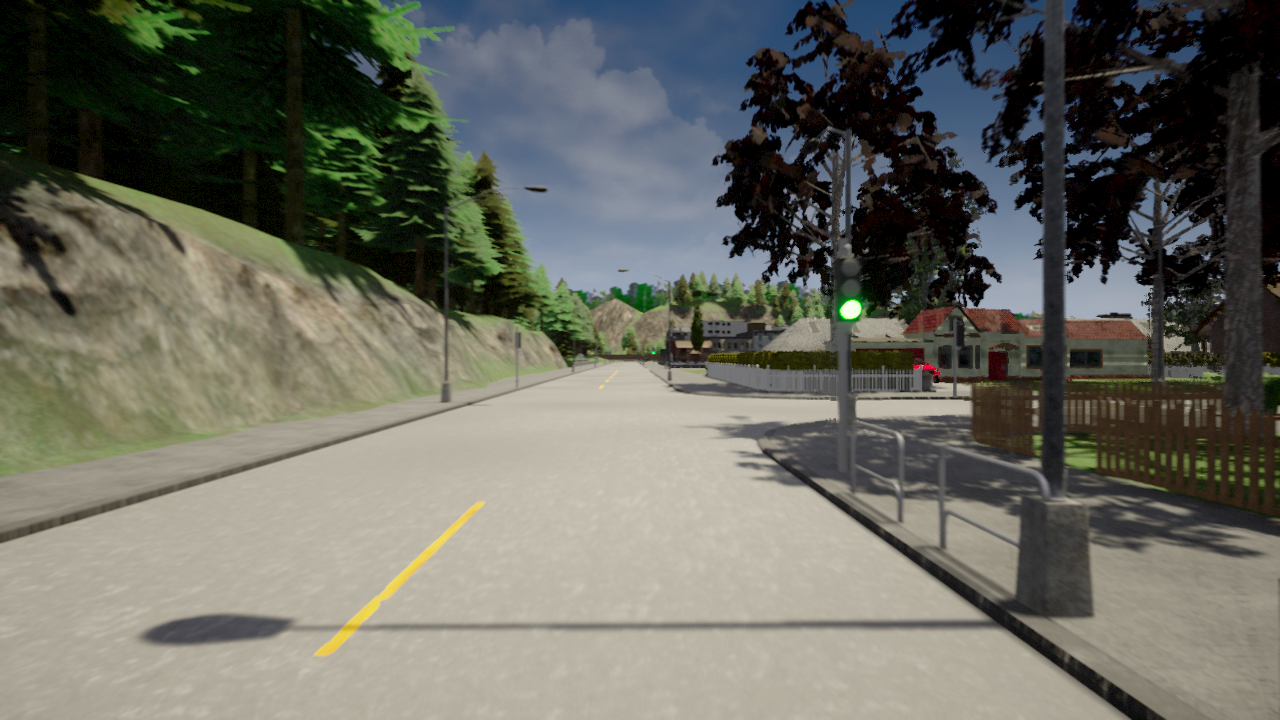green: (831, 257, 865, 322)
